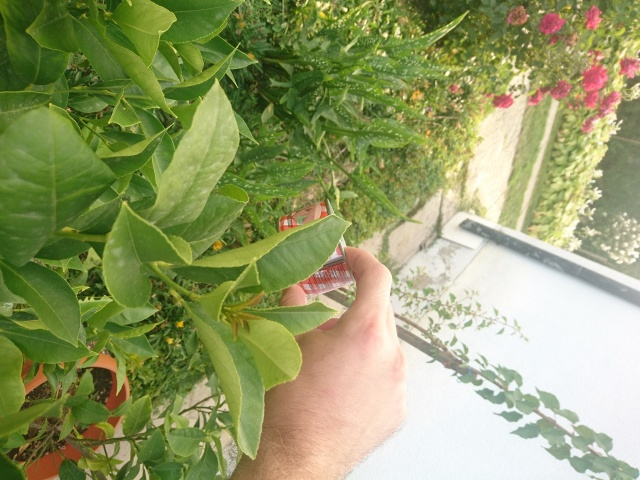Podravka Luncheon Meat 150g: (272, 194, 359, 299)
